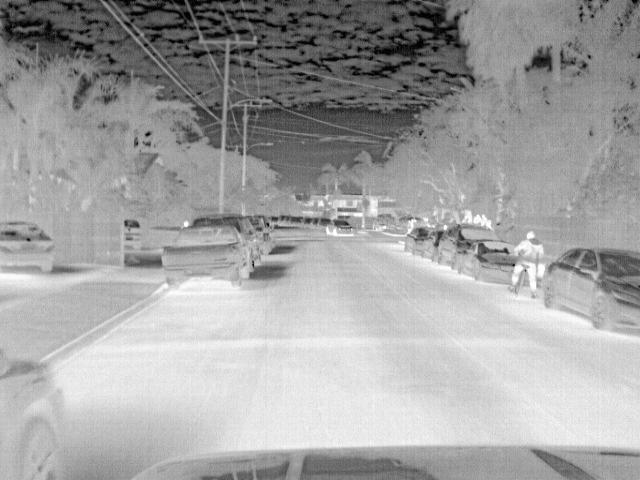car: (541, 246, 640, 336), (1, 345, 66, 478), (161, 225, 253, 289), (191, 215, 263, 271), (2, 219, 55, 274), (455, 242, 518, 285), (436, 224, 501, 264), (405, 227, 433, 253), (122, 218, 144, 250), (419, 230, 445, 257), (324, 218, 357, 236), (371, 211, 398, 232)
person: (511, 228, 543, 292)
